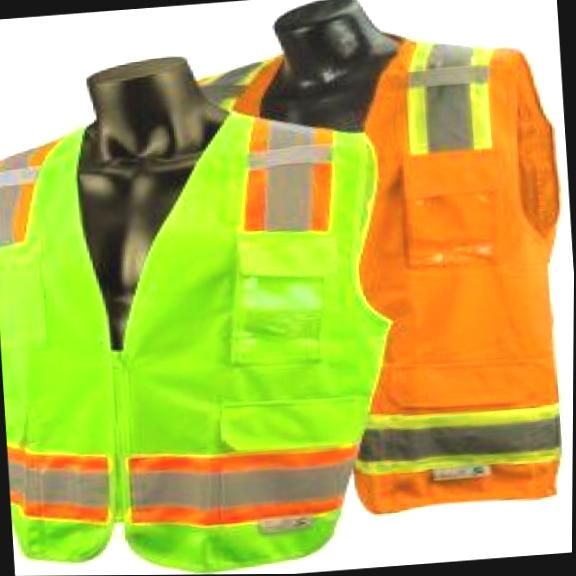safety_vest: (190, 22, 576, 537), (0, 93, 412, 575)
